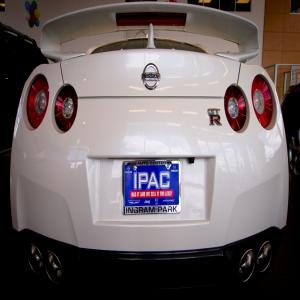Vehicle-registration-plate: (124, 161, 181, 213)
